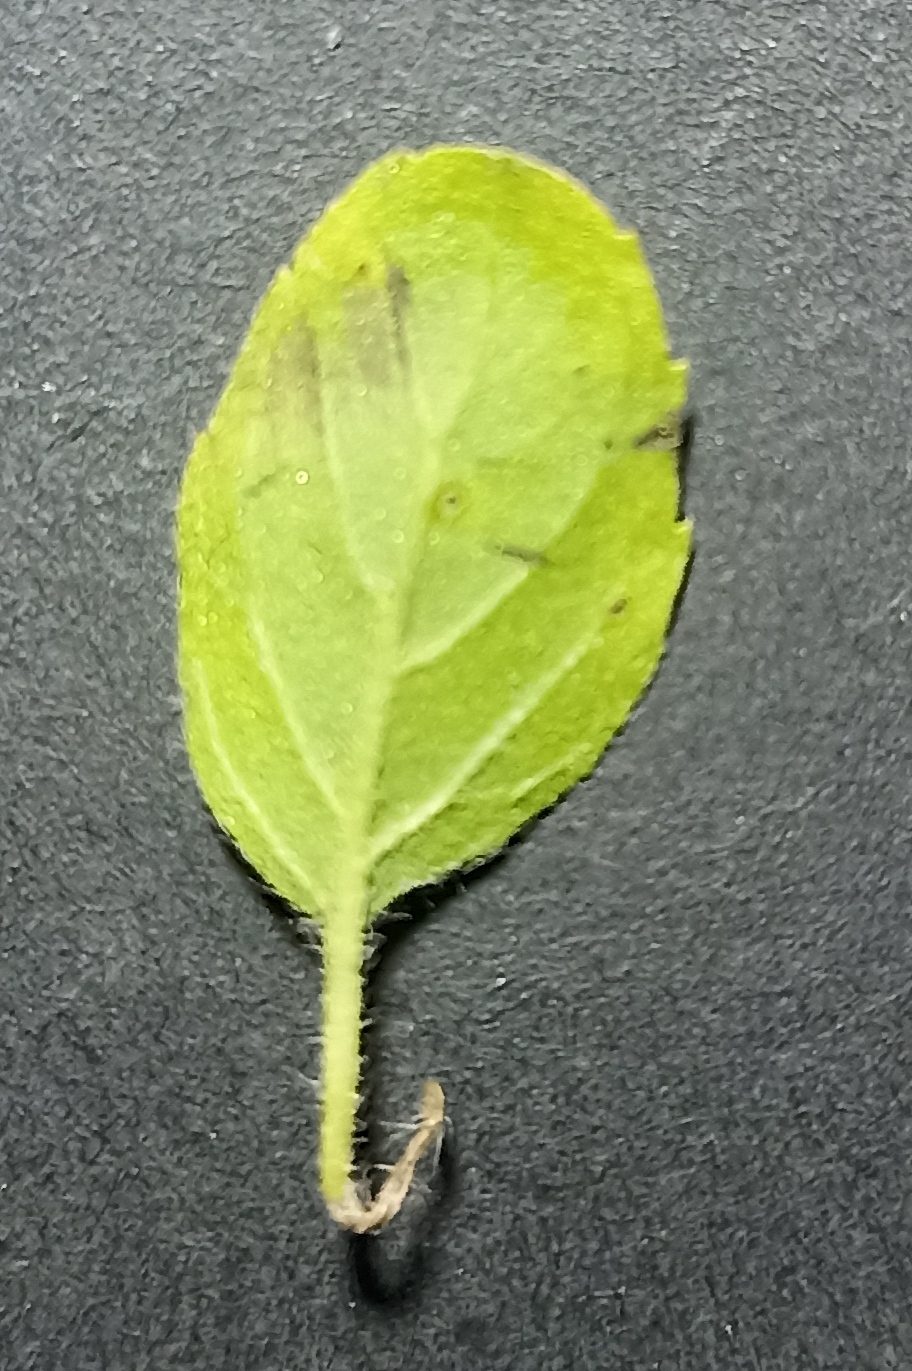Unhealthy: (168, 125, 700, 944)
